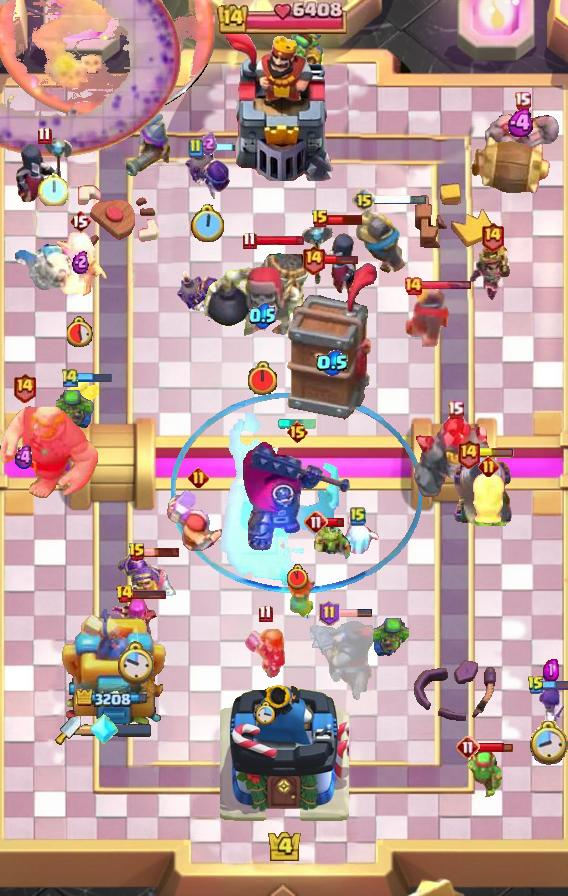archer-evolution: (110, 591, 160, 647)
bar: (374, 193, 428, 206), (254, 234, 305, 247), (420, 280, 472, 291), (327, 213, 364, 226), (144, 546, 181, 558), (131, 588, 167, 600), (478, 741, 513, 753), (78, 371, 113, 383), (324, 254, 359, 265), (201, 142, 236, 153), (337, 608, 373, 618), (478, 448, 514, 458), (542, 679, 568, 691), (326, 517, 345, 528)
bar-level: (456, 438, 481, 469), (12, 372, 37, 403), (301, 244, 326, 275), (480, 221, 505, 252), (456, 735, 480, 759), (304, 510, 328, 534), (352, 188, 376, 212), (286, 420, 309, 444), (319, 600, 340, 626), (69, 209, 91, 233), (188, 467, 209, 488), (478, 456, 499, 477), (60, 367, 80, 388), (403, 276, 423, 296), (115, 584, 134, 604), (527, 675, 545, 695), (128, 542, 146, 562), (311, 209, 329, 229), (447, 400, 464, 419), (514, 91, 531, 110), (350, 506, 366, 526), (187, 138, 203, 158), (258, 604, 273, 623), (242, 231, 257, 250), (37, 126, 52, 145)
barbarian-barrel: (469, 134, 553, 196)
bomber-evolution: (174, 271, 226, 327), (185, 145, 231, 203)
clock: (529, 721, 568, 766), (116, 641, 154, 686), (191, 204, 226, 245), (246, 361, 279, 397), (38, 172, 68, 206), (67, 316, 94, 347), (287, 564, 308, 590), (255, 701, 276, 725)
dagger-duchess-tower: (62, 601, 166, 731)
dagger-duchess-tower-bar: (81, 723, 153, 737)
elixir: (316, 350, 349, 376), (507, 109, 537, 137), (249, 302, 276, 329), (13, 445, 36, 470), (199, 132, 217, 155), (72, 250, 89, 274), (543, 659, 559, 681)
goblin: (313, 522, 351, 566)
golemite: (485, 112, 559, 174)
ice-spirit: (336, 516, 380, 554)
ice-spirit-evolution-symbol: (90, 712, 118, 746)
king-tower: (220, 678, 349, 826), (223, 31, 345, 181)
king-tower-bar: (217, 0, 351, 34)
knight: (355, 205, 406, 275), (404, 289, 451, 347)
knight-evolution: (117, 552, 179, 599)
little-prince: (469, 243, 515, 303)
lumberjack: (166, 489, 230, 555)
mortar-evolution: (451, 456, 515, 526)
musketeer: (126, 110, 182, 176)
night-witch: (299, 224, 361, 296), (14, 134, 74, 206)
royal-hog: (470, 468, 506, 528)
skeleton: (69, 376, 99, 408)
skeleton-evolution: (535, 687, 567, 727)
spear-goblin: (277, 29, 325, 71), (466, 750, 504, 800), (367, 618, 409, 658), (56, 390, 98, 430)
tower-bar: (76, 689, 153, 710)
valkyrie: (244, 628, 286, 678), (283, 571, 321, 623)
